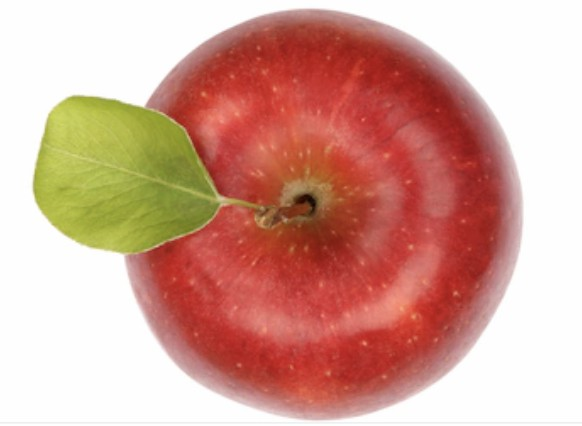fresh_apple: (119, 9, 522, 416)
